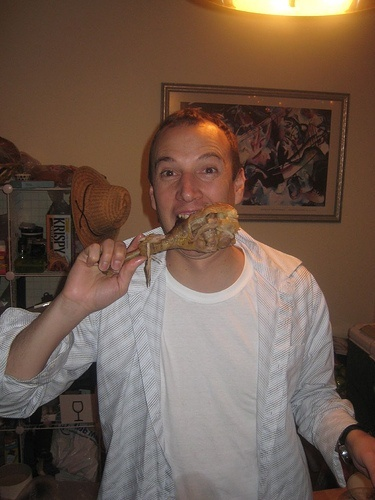head: (140, 108, 248, 259)
person: (1, 109, 375, 498)
